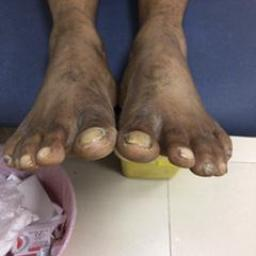Front View -Both Feet-: (3, 4, 240, 205)
